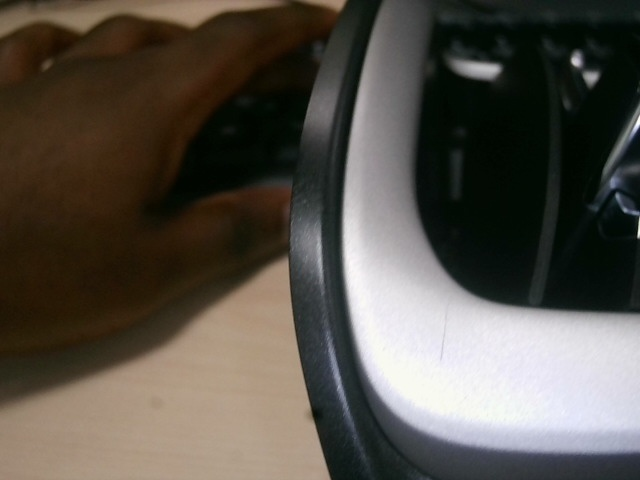NG: (287, 167, 319, 238), (434, 297, 462, 366)
